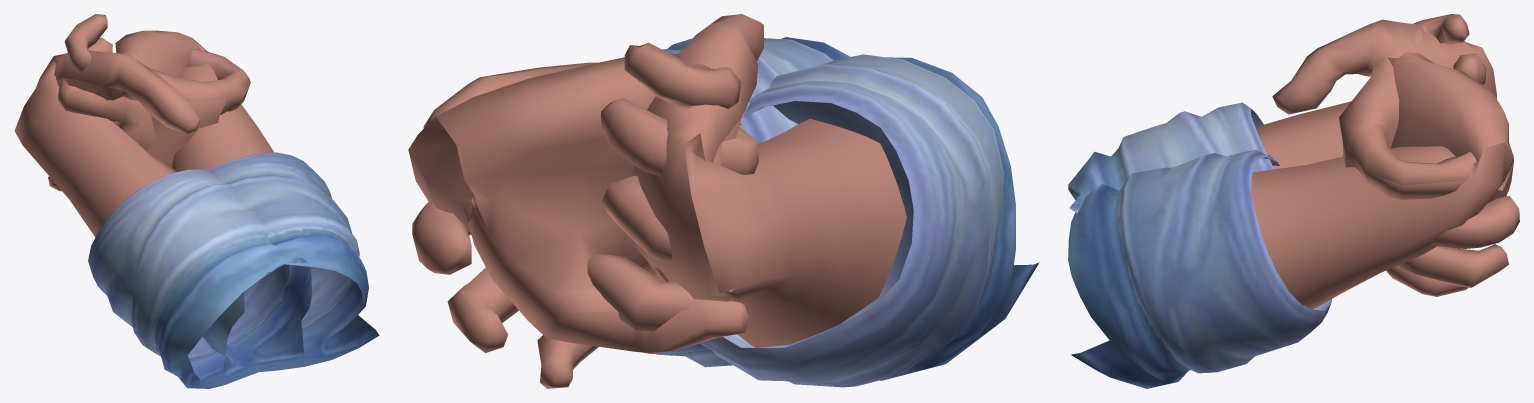
Rendered from maos_volante.glb.
3 views of the same model, side by side, from view 1: azimuth 30°, elevation 25°; view 2: azimuth 150°, elevation 25°; view 3: azimuth 270°, elevation 25° (orthographic). The views are drawn at different scales.
Parts seen in each view (by area): view 1: MaoEsq, MaoDir; view 2: MaoEsq, MaoDir; view 3: MaoDir, MaoEsq.
Part boxes in pixels (left/top/right/bottom): MaoEsq: left=14, top=49, right=311, bottom=388; MaoDir: left=48, top=14, right=379, bottom=375; MaoEsq: left=412, top=14, right=1039, bottom=388; MaoDir: left=408, top=37, right=850, bottom=367; MaoDir: left=1068, top=14, right=1513, bottom=388; MaoEsq: left=1068, top=19, right=1519, bottom=296.
Size of the model in its own units: 0.1738 by 0.1946 by 0.2492.
2 materials, 2 textured.
